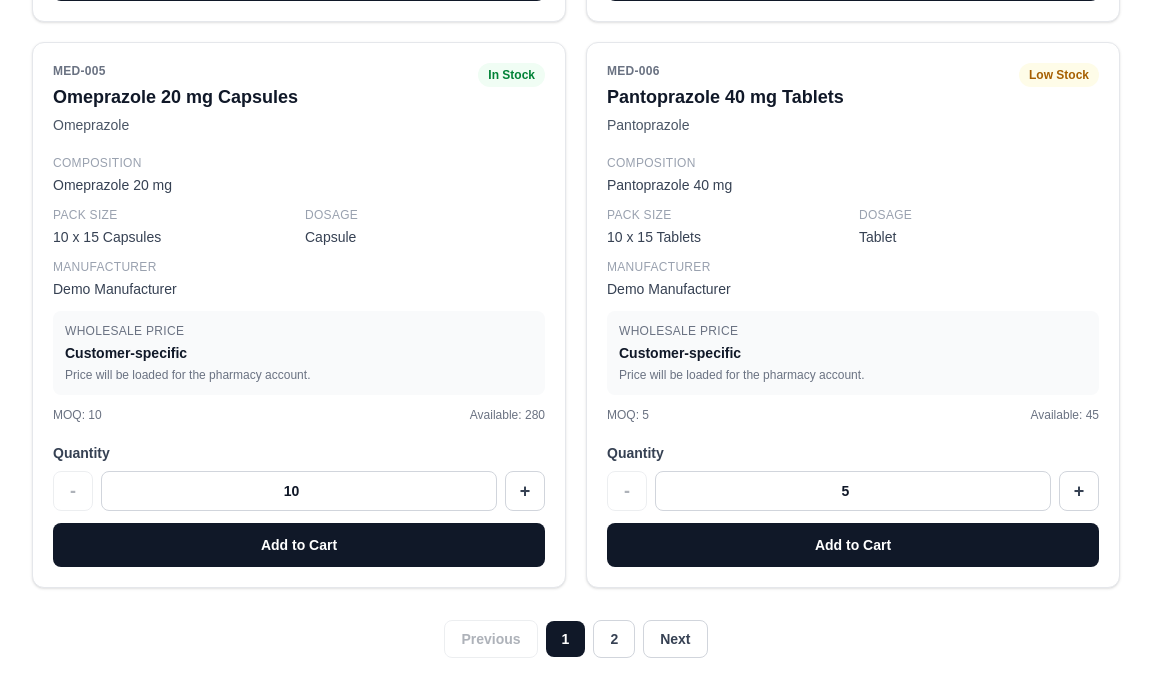
Test: Pharmacy Product Search Portal › supports pagination
This screenshot has width=1152, height=682.
(page scrolled)
Click the button "Next".
click(675, 639)  # box [643,620,708,658]
(page scrolled)
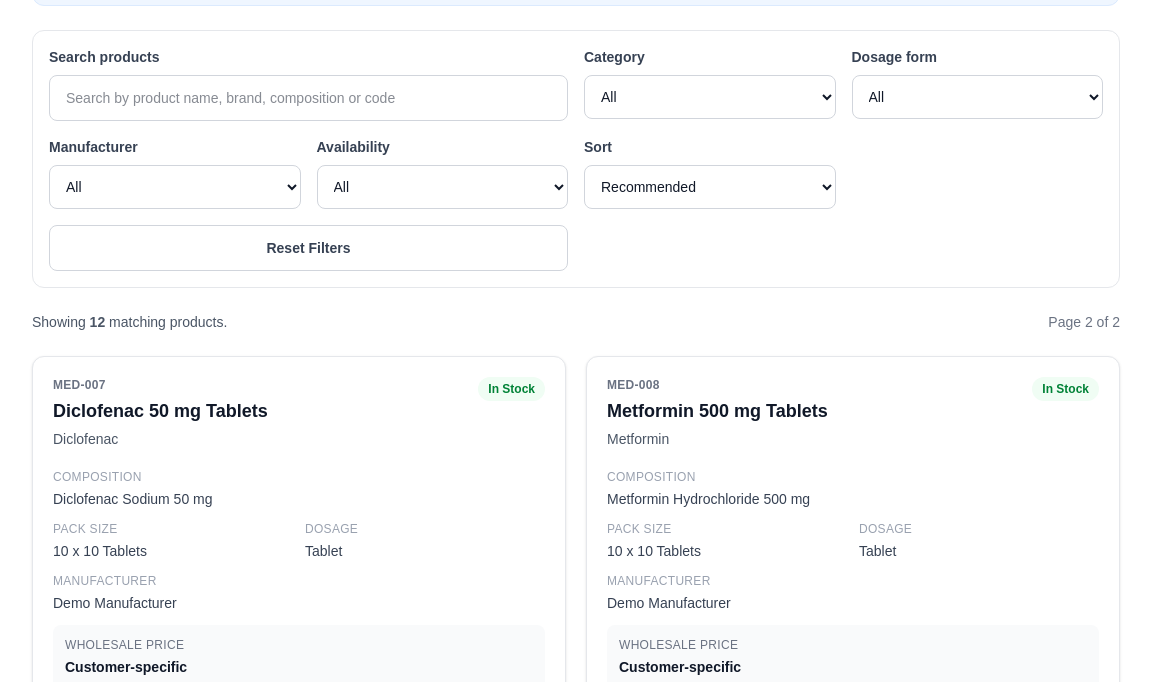
Check: the text "Page 2 of 2" is shown, box [1048,312,1120,332]
